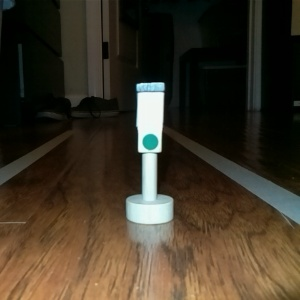traffic light green: (120, 77, 176, 225)
